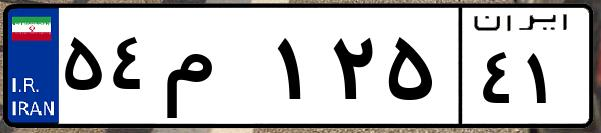1: (270, 28, 330, 110), (525, 38, 570, 115)
2: (330, 28, 385, 110)
4: (475, 38, 525, 113), (110, 28, 158, 98)
5: (385, 28, 445, 110), (57, 26, 110, 100)
م: (158, 20, 270, 120)
